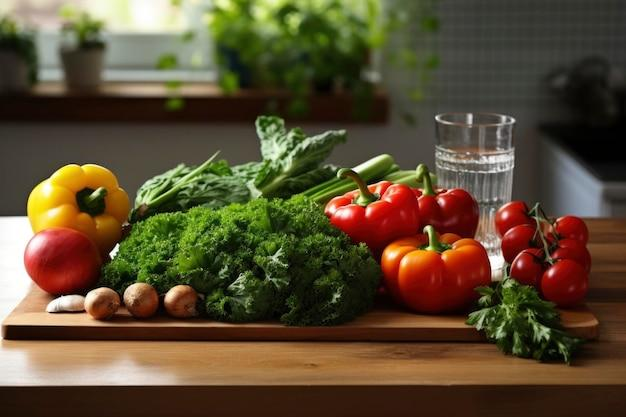bel pepp: (388, 226, 514, 314)
bell pepper: (12, 152, 147, 246)
broccoli: (101, 194, 385, 327)
tomato: (495, 189, 604, 323)
